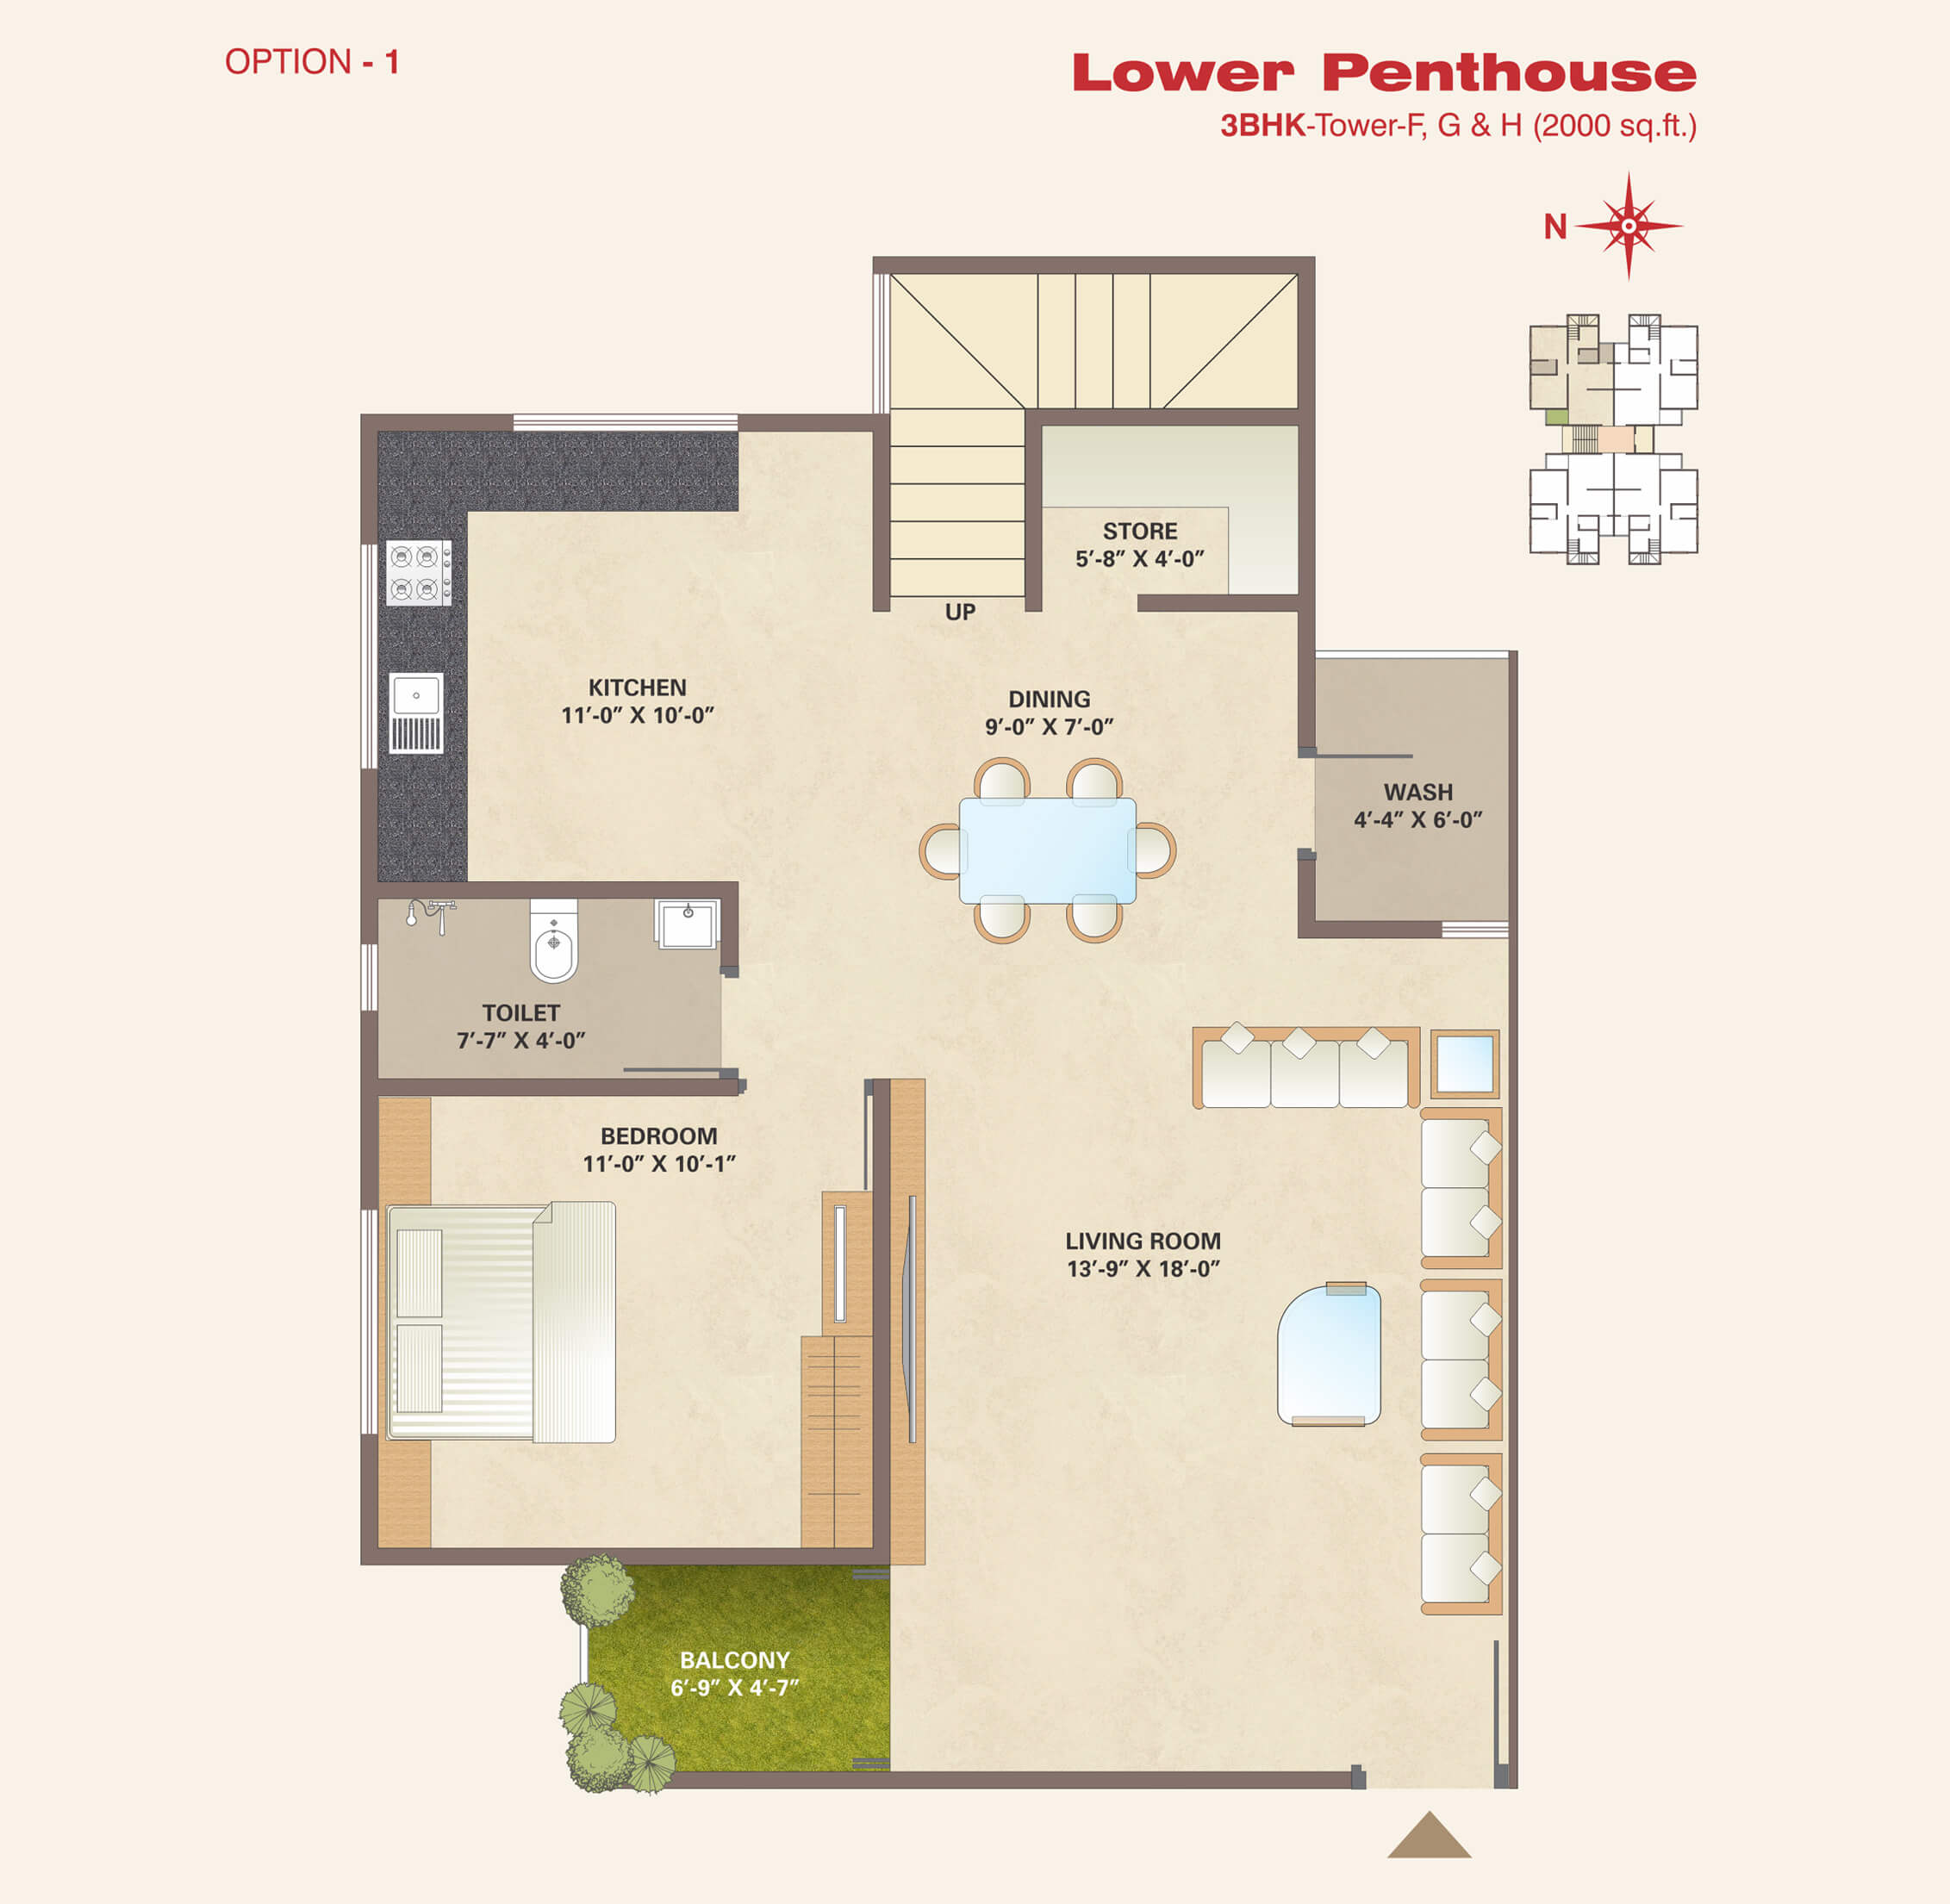window: (352, 541, 380, 772), (509, 410, 741, 436), (356, 1207, 380, 1437), (867, 270, 895, 418), (1439, 917, 1512, 943), (358, 942, 380, 1015)
